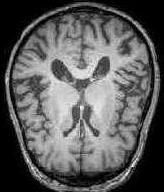Normal_Brain: (1, 1, 164, 192)
